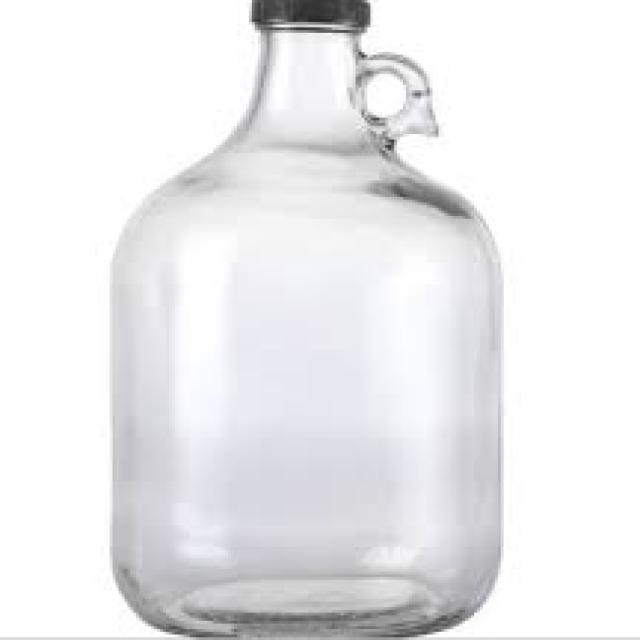bottle: (113, 0, 500, 637)
